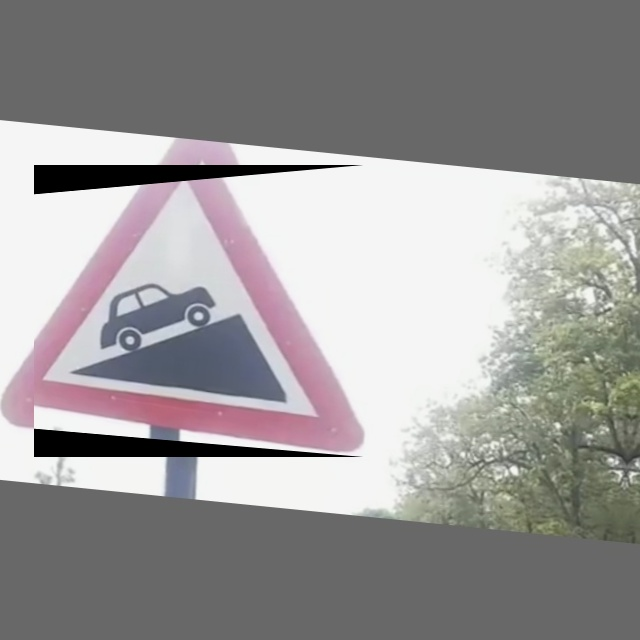Steep_Ascent: (34, 165, 364, 457)
